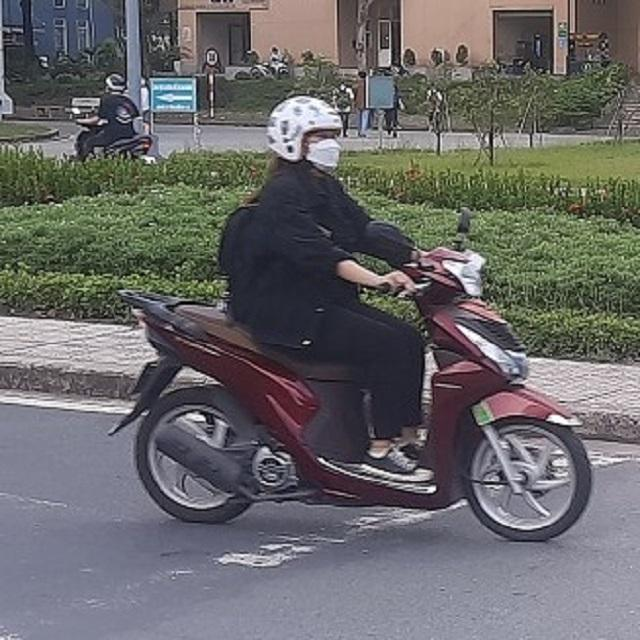Helmet: (268, 94, 348, 172)
